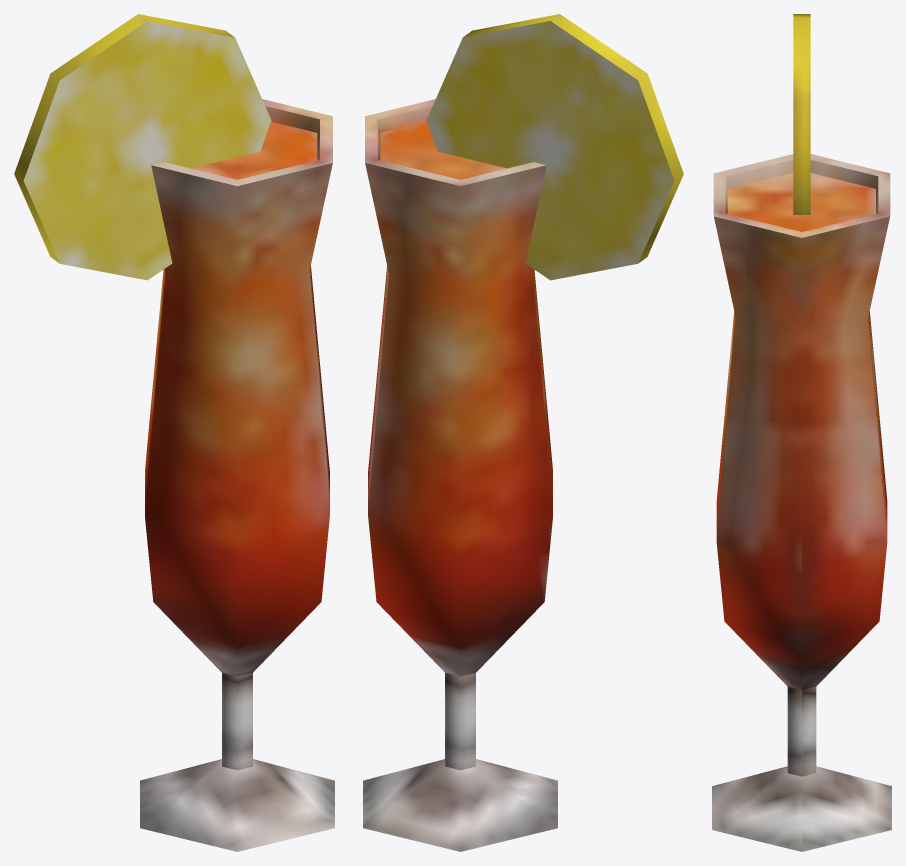
Rendered from DrinkV15.fbx.
3 views of the same model, side by side, from view 1: azimuth 30°, elevation 25°; view 2: azimuth 150°, elevation 25°; view 3: azimuth 270°, elevation 25° (orthographic). The views are drawn at different scales.
Parts seen in each view (by area): view 1: Cocktails.011; view 2: Cocktails.011; view 3: Cocktails.011.
Part boxes in pixels (x1,y1,x2,y2): Cocktails.011: [14, 14, 334, 851]; Cocktails.011: [363, 14, 683, 851]; Cocktails.011: [712, 14, 891, 851].
Size of the model in its own units: 0.137 by 0.3356 by 0.0732.
